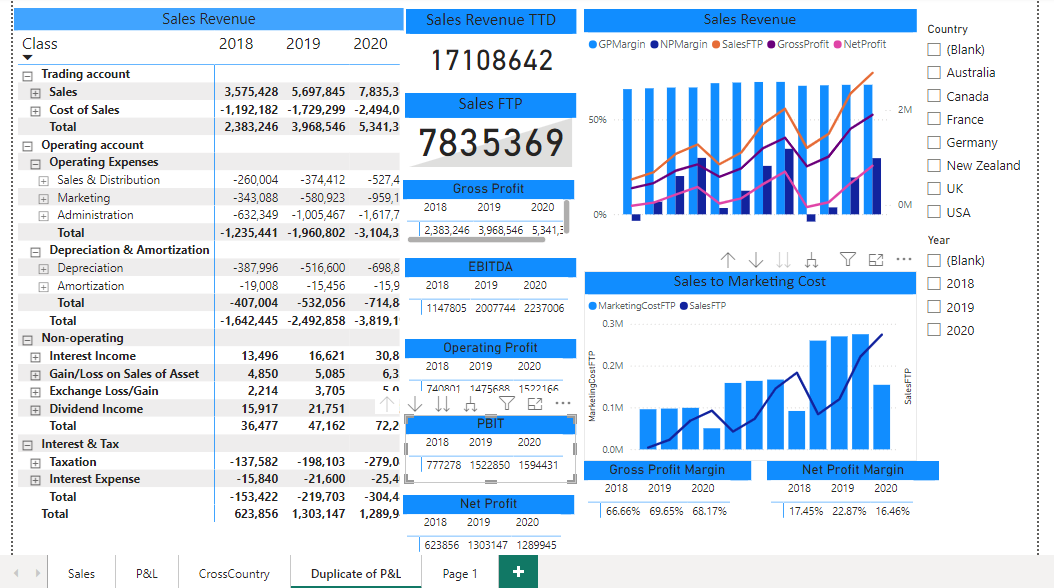

What the dashboard file says about the page in this screenshot:
{"tool":"powerbi","page":{"name":"Page 1","canvas":[1280,720],"ordinal":0},"visuals":[{"type":"pivotTable","title":"Gross Profit","fields":{"Columns":["tbl_Calendar.Year"],"Values":["values.gp"]},"box":[764,617.4,244.2,102.3],"z":2000},{"type":"card","title":"Sales Revenue TTD","fields":{"Values":["table.SalesRevenue"]},"box":[12.8,591.9,227.9,107],"z":3000},{"type":"kpi","title":"SalesFTP","fields":{"Indicator":["values.SalesRevenue"],"TrendLine":["tbl_Calendar.Date.Variation.Date Hierarchy.Year"]},"box":[248.8,591.9,219.8,107],"z":4000},{"type":"pivotTable","title":"Operating Profit","fields":{"Columns":["tbl_Calendar.Year"],"Values":["values.operating profit"]},"box":[1036,396.5,237.2,93],"z":5000},{"type":"pivotTable","title":"PBIT","fields":{"Columns":["tbl_Calendar.Year"],"Values":["values.pbit"]},"box":[1034.9,280.2,238.4,94.2],"z":6000},{"type":"pivotTable","title":"Net profit","fields":{"Columns":["tbl_Calendar.Year"],"Values":["values.net profit"]},"box":[1036,615.1,244.2,104.7],"z":7000},{"type":"pivotTable","title":"EBITDA","fields":{"Columns":["tbl_Calendar.Year"],"Values":["Sum(tbl_GL.Amount)"]},"box":[483.7,614,244.2,105.8],"z":8000},{"type":"pivotTable","title":"Gross Profit margin","fields":{"Columns":["tbl_Calendar.Year"],"Values":["values.Gross Profit Margin"]},"box":[764,504.7,244.2,97.7],"z":9000},{"type":"pivotTable","title":"Net Profit margin","fields":{"Columns":["tbl_Calendar.Year"],"Values":["values.net profit margin"]},"box":[1034.9,504.7,245.3,97.7],"z":10000},{"type":"lineClusteredColumnComboChart","fields":{"Y":["values.Gross Profit Margin","values.net profit margin"],"Y2":["values.salesftp","values.gp","values.net profit"],"Category":["tbl_Calendar.Date.Variation.Date Hierarchy.Year","tbl_Calendar.Date.Variation.Date Hierarchy.Quarter"]},"box":[477.9,0,487.2,254.7],"z":11000},{"type":"lineClusteredColumnComboChart","fields":{"Y":["values.Marketing Cost"],"Y2":["values.salesftp"],"Category":["tbl_Calendar.Date.Variation.Date Hierarchy.Year","tbl_Calendar.Date.Variation.Date Hierarchy.Quarter"]},"box":[484.9,239.5,487.2,250],"z":12000},{"type":"slicer","fields":{"Values":["tbl_Calendar.Date.Variation.Date Hierarchy.Year"]},"box":[1146.5,0,126.7,150],"z":12001},{"type":"slicer","fields":{"Values":["tbl_territory.Country"]},"box":[973.3,0,160.5,265.1],"z":12002},{"type":"card","title":"SUM of amount","fields":{"Values":["Sum(tbl_GL.Amount)"]},"box":[483.7,518.6,244.2,83.7],"z":12003},{"type":"pivotTable","fields":{"Rows":["tbl_ChartofAccounts.Class","tbl_ChartofAccounts.SubClass","tbl_ChartofAccounts.SubClass2","tbl_ChartofAccounts.Account"],"Columns":["tbl_Calendar.Date.Variation.Date Hierarchy.Year"],"Values":["Sum(tbl_GL.Amount)"]},"box":[0,0,468.6,583.7],"z":12004}]}

Visuals, with their boxes on the page's 1280x720 design canvas (x1, y1, x2, y2). These are canvas units, not pixel positions in the 1054x588 screenshot, which may show the page scaled, cropped or inside an application window:
"Gross Profit" pivotTable: 764/617/1008/720
"Sales Revenue TTD" card: 13/592/241/699
"SalesFTP" kpi: 249/592/469/699
"Operating Profit" pivotTable: 1036/396/1273/490
"PBIT" pivotTable: 1035/280/1273/374
"Net profit" pivotTable: 1036/615/1280/720
"EBITDA" pivotTable: 484/614/728/720
"Gross Profit margin" pivotTable: 764/505/1008/602
"Net Profit margin" pivotTable: 1035/505/1280/602
lineClusteredColumnComboChart - values.Gross Profit Margin x values.net profit margin: 478/0/965/255
lineClusteredColumnComboChart - values.Marketing Cost x values.salesftp: 485/240/972/490
slicer - tbl_Calendar.Date.Variation.Date Hierarchy.Year: 1146/0/1273/150
slicer - tbl_territory.Country: 973/0/1134/265
"SUM of amount" card: 484/519/728/602
pivotTable - tbl_ChartofAccounts.Class x tbl_ChartofAccounts.SubClass: 0/0/469/584
